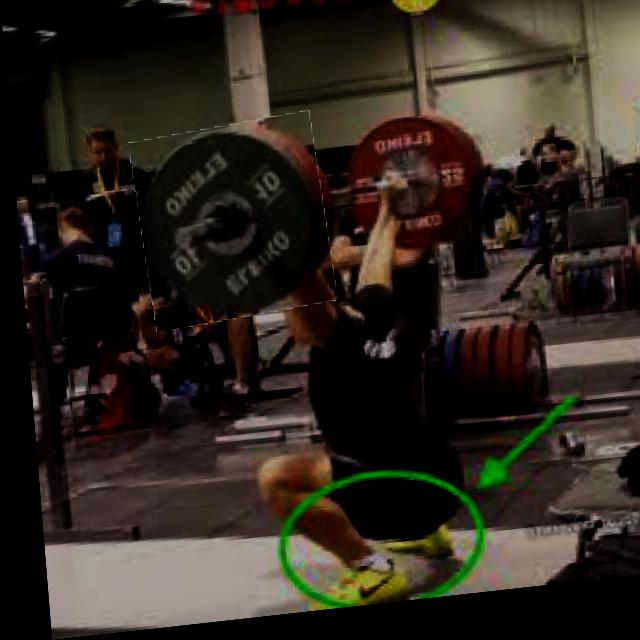barbell: (129, 120, 330, 334)
